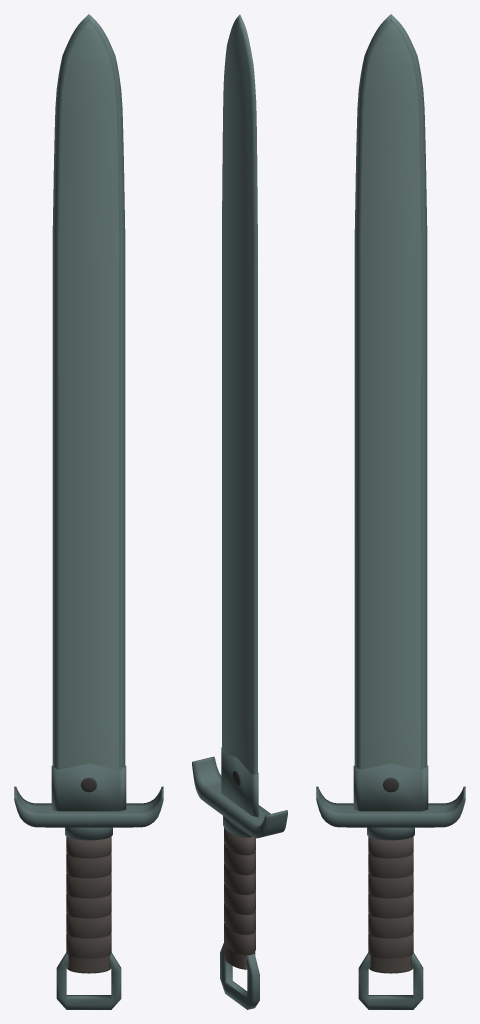
Rendered from sword_3 1.fbx.
3 views of the same model, side by side, from view 1: azimuth 90°, elevation 25°; view 2: azimuth 210°, elevation 25°; view 3: azimuth 270°, elevation 25° (orthographic).
Parts seen in each view (by area): view 1: sword_4; view 2: sword_4; view 3: sword_4.
Boxes of the visible parts, <box> form: sword_4: <box>14,14,163,1009</box>; sword_4: <box>192,14,287,1009</box>; sword_4: <box>316,14,465,1009</box>.
Bounding box in the file's own units: 27.42 × 966 × 131.
